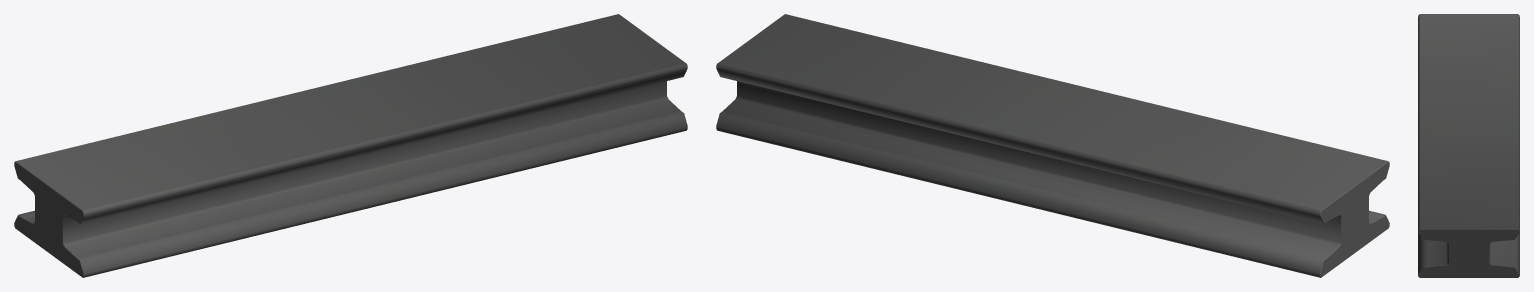
Rendered from Beam.fbx.
The picture shows the model from 3 angles, left to right: view 1: azimuth 30°, elevation 25°; view 2: azimuth 150°, elevation 25°; view 3: azimuth 270°, elevation 25°; orthographic projection. The views are drawn at different scales.
Visible parts, largest first — view 1: Cube.002; view 2: Cube.002; view 3: Cube.002.
Boxes of the visible parts, x1,y1,x2,y2 form: Cube.002: [14, 14, 687, 277]; Cube.002: [716, 14, 1389, 277]; Cube.002: [1418, 14, 1519, 277].
Bounding box in the file's own units: 675 × 71.94 × 135.
